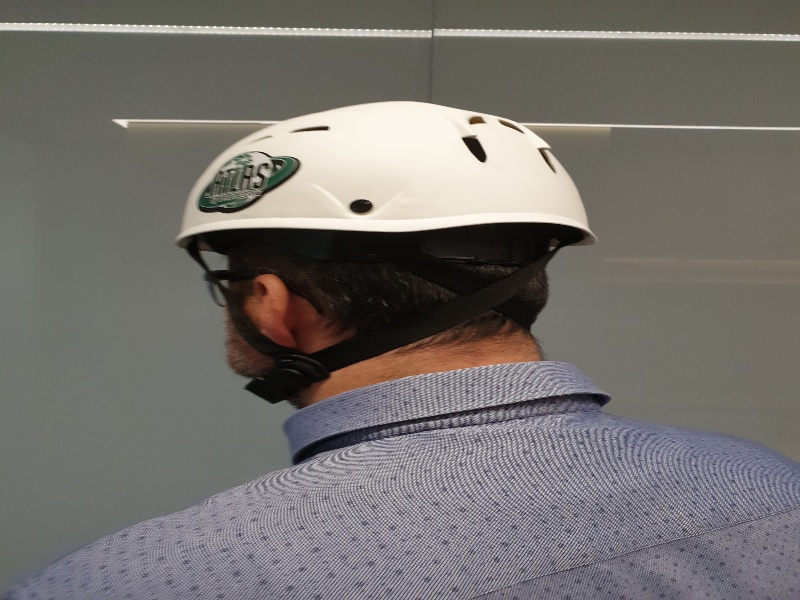Baret: (171, 113, 603, 234)
Gozluk: (202, 263, 245, 309)
